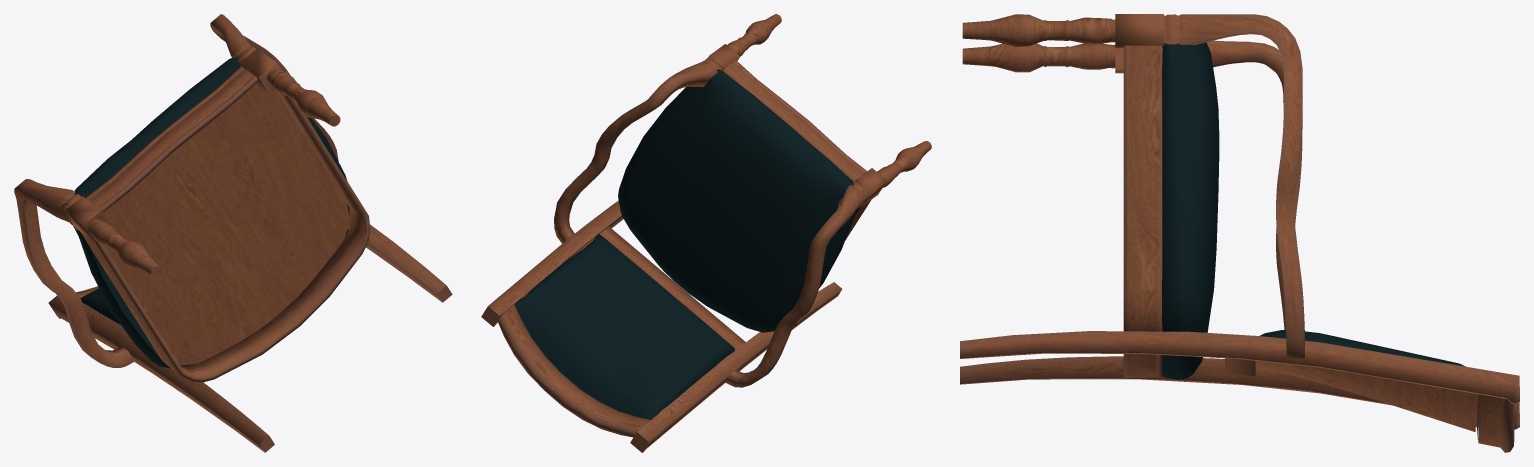
File: Chair.glb
3 views of the same model, side by side, from view 1: azimuth 30°, elevation 25°; view 2: azimuth 150°, elevation 25°; view 3: azimuth 270°, elevation 25° (orthographic). The views are drawn at different scales.
Parts seen in each view (by area): view 1: Chair; view 2: Chair; view 3: Chair.
Boxes of the visible parts, left/top/right/bottom form: Chair: left=14, top=14, right=452, bottom=452; Chair: left=481, top=14, right=931, bottom=452; Chair: left=960, top=14, right=1519, bottom=452.
Size of the model in its own units: 0.9053 by 0.9434 by 1.05.
Materials: 1 (1 with a texture image).
